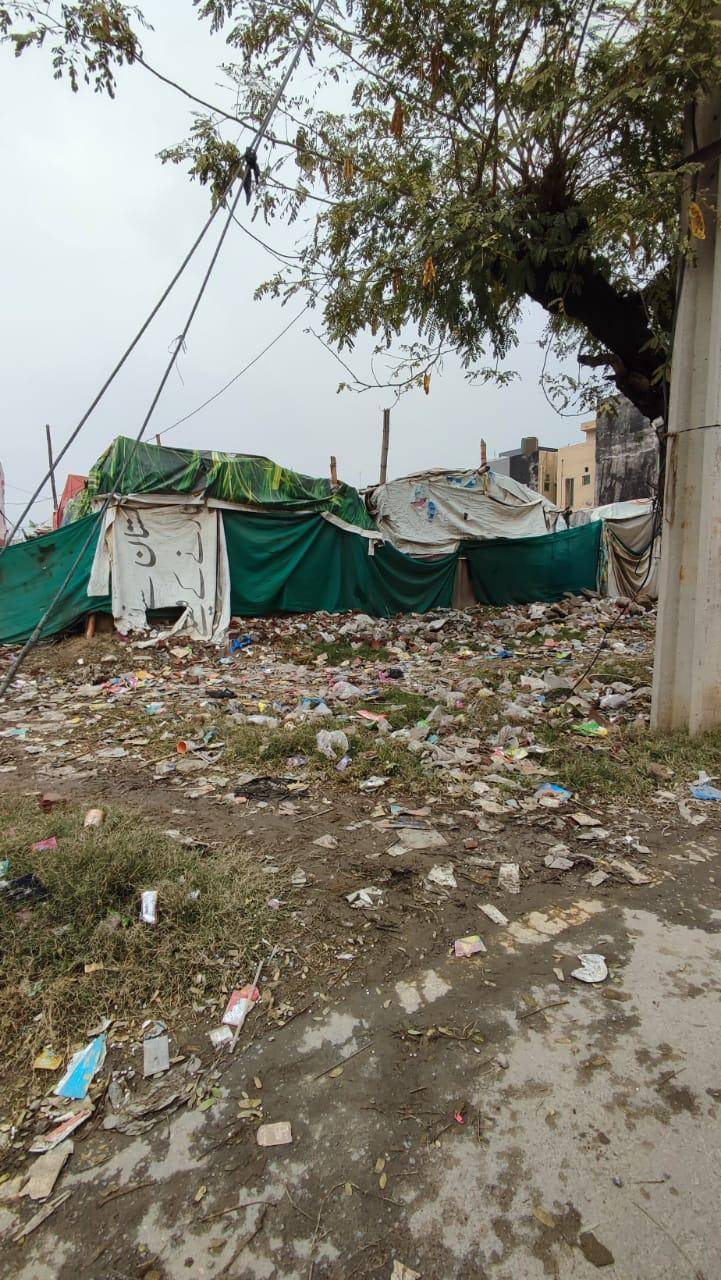garbage: (26, 626, 645, 865)
